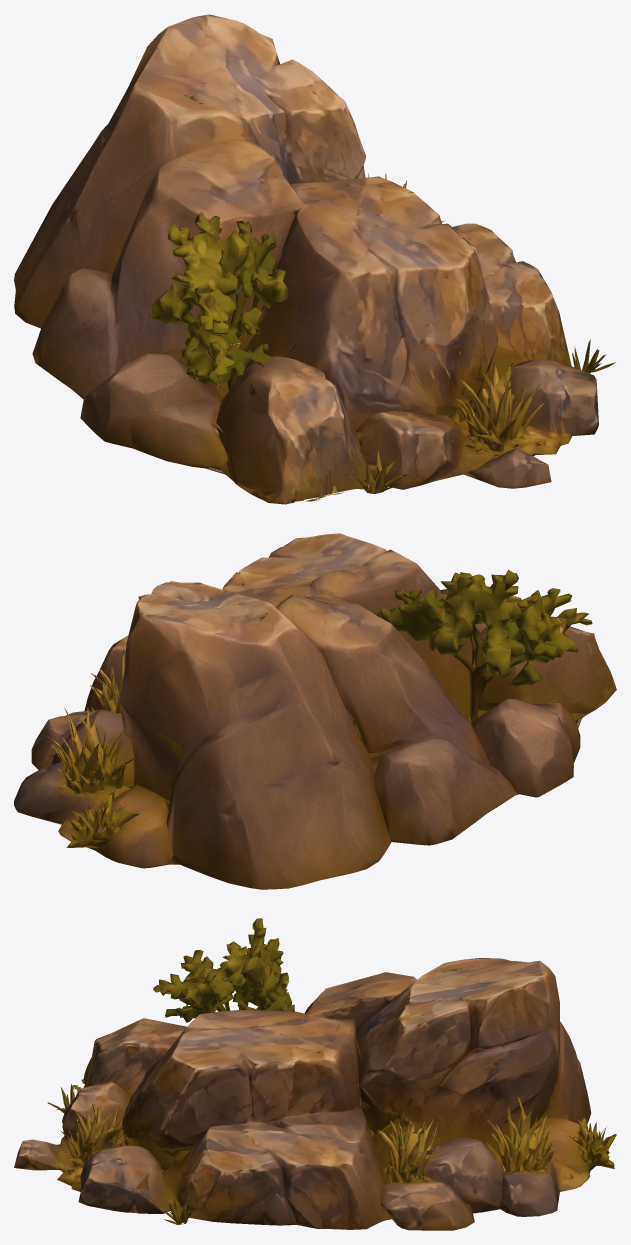
File: mossy-rock-outcrop.glb
The picture shows the model from 3 angles, top to bottom: view 1: azimuth 30°, elevation 25°; view 2: azimuth 150°, elevation 25°; view 3: azimuth 270°, elevation 25°; orthographic projection. The views are drawn at different scales.
Parts seen in each view (by area): view 1: SM_MossyRockOutcrop; view 2: SM_MossyRockOutcrop; view 3: SM_MossyRockOutcrop.
Boxes of the visible parts, x1,y1,x2,y2 form: SM_MossyRockOutcrop: (14, 14, 615, 504); SM_MossyRockOutcrop: (14, 533, 616, 889); SM_MossyRockOutcrop: (14, 918, 616, 1230).
Size of the model in its own units: 1.32 by 0.6496 by 1.89.
1 material, 1 textured.
